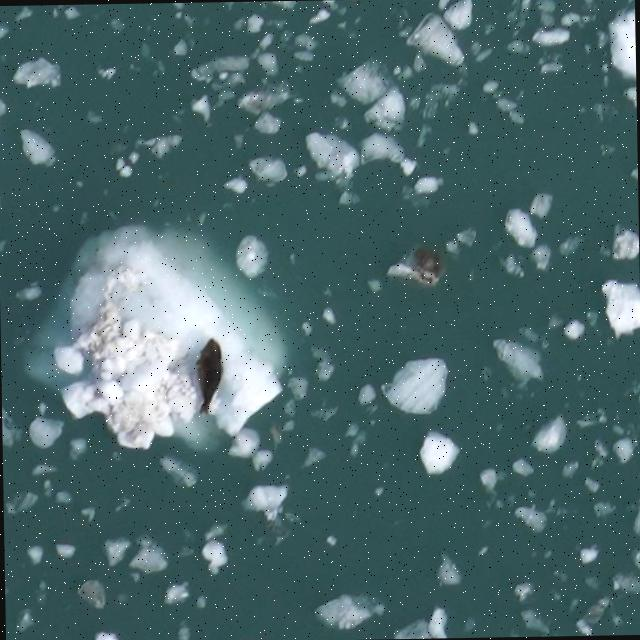seal: (195, 336, 222, 414)
